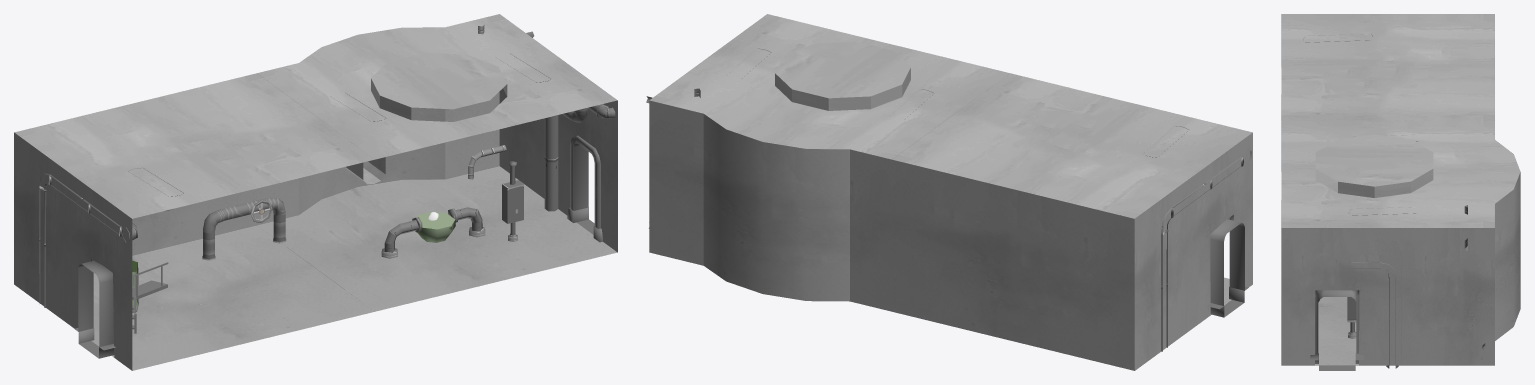
The model's file is MHS_Water_L1_R2_optimized.fbx.
3 renders of one model, left to right at view 1: azimuth 30°, elevation 25°; view 2: azimuth 150°, elevation 25°; view 3: azimuth 270°, elevation 25°, orthographic. The views are drawn at different scales.
Visible parts, largest first — view 1: lightmap1, MHS_Water_L1_door, lightmap-1; view 2: lightmap1, MHS_Water_L1_door; view 3: lightmap1, MHS_Water_L1_door.
Boxes of the visible parts, x1,y1,x2,y2 form: lightmap1: (14, 14, 617, 370); MHS_Water_L1_door: (78, 143, 594, 358); lightmap-1: (132, 212, 455, 306); lightmap1: (646, 14, 1252, 370); MHS_Water_L1_door: (1210, 219, 1244, 317); lightmap1: (1281, 14, 1520, 368); MHS_Water_L1_door: (1318, 290, 1356, 370).
Size of the model in its own units: 20.83 by 6.5 by 9.25.
5 materials, 5 textured.
